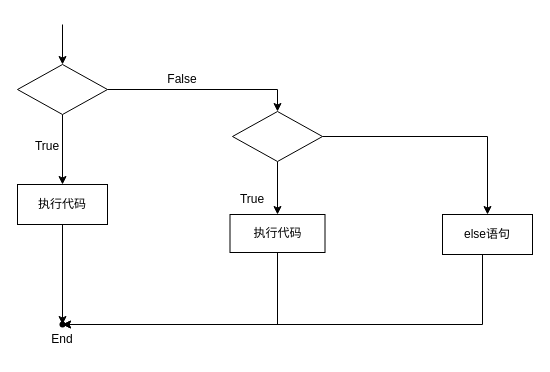
Some shapes in this 550 by 372 pixel diagram are drawn without their labels. The shapes that lost their labels are listed below. From the top down, each one's centre as x and y in pixels, then its label:
the point at 62,89: if条件
the point at 277,136: elif条件
